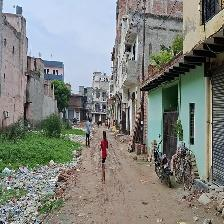Bike: (149, 141, 176, 188)
Human: (99, 128, 110, 185), (86, 118, 92, 146)
Road: (50, 138, 193, 223)
waterlog: (3, 123, 81, 223)
